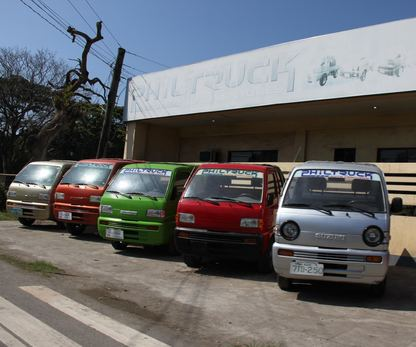truck: (267, 165, 402, 299), (174, 162, 288, 266), (97, 161, 203, 253), (52, 157, 139, 235), (4, 160, 79, 226)
